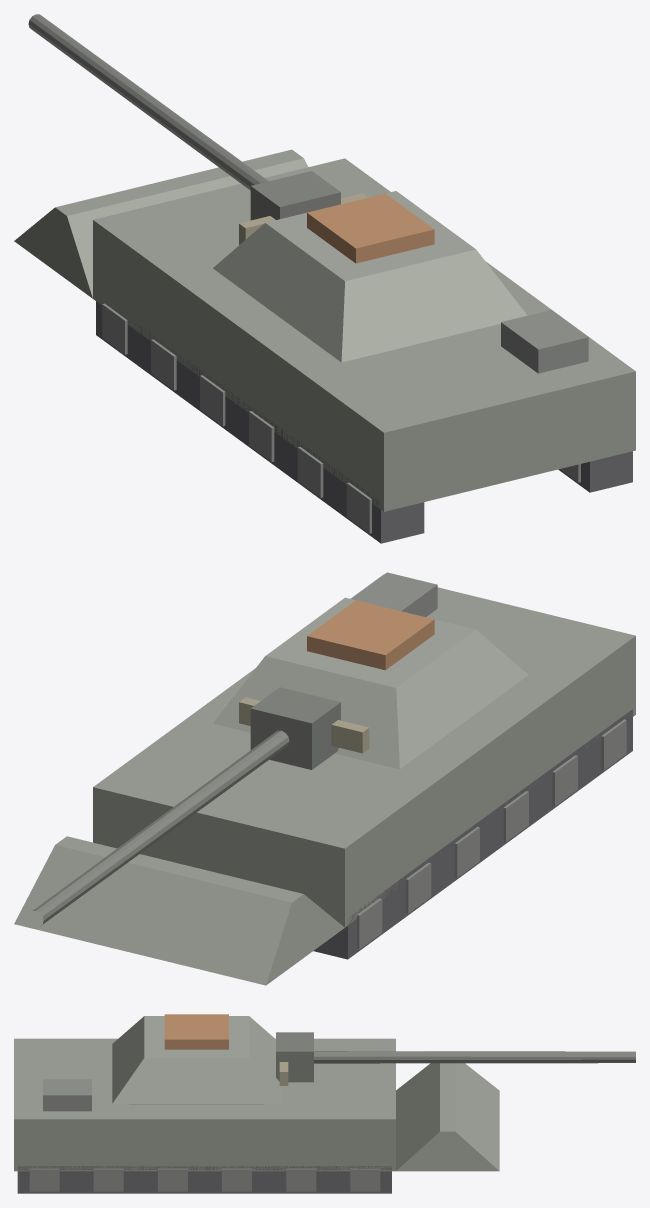
The model's file is mbt_e4_cn_LOD0.glb.
3 views of the same model, one above another, from view 1: azimuth 30°, elevation 25°; view 2: azimuth 150°, elevation 25°; view 3: azimuth 270°, elevation 25° (orthographic). The views are drawn at different scales.
Visible parts, largest first — view 1: mbt_e4_cn_LOD0_body; view 2: mbt_e4_cn_LOD0_body; view 3: mbt_e4_cn_LOD0_body.
Part boxes in pixels (x1,y1,x2,y2): mbt_e4_cn_LOD0_body: (14, 14, 635, 543); mbt_e4_cn_LOD0_body: (14, 572, 635, 985); mbt_e4_cn_LOD0_body: (14, 1014, 635, 1193).
Bounding box in the file's own units: 3.57 × 2.55 × 11.4.
